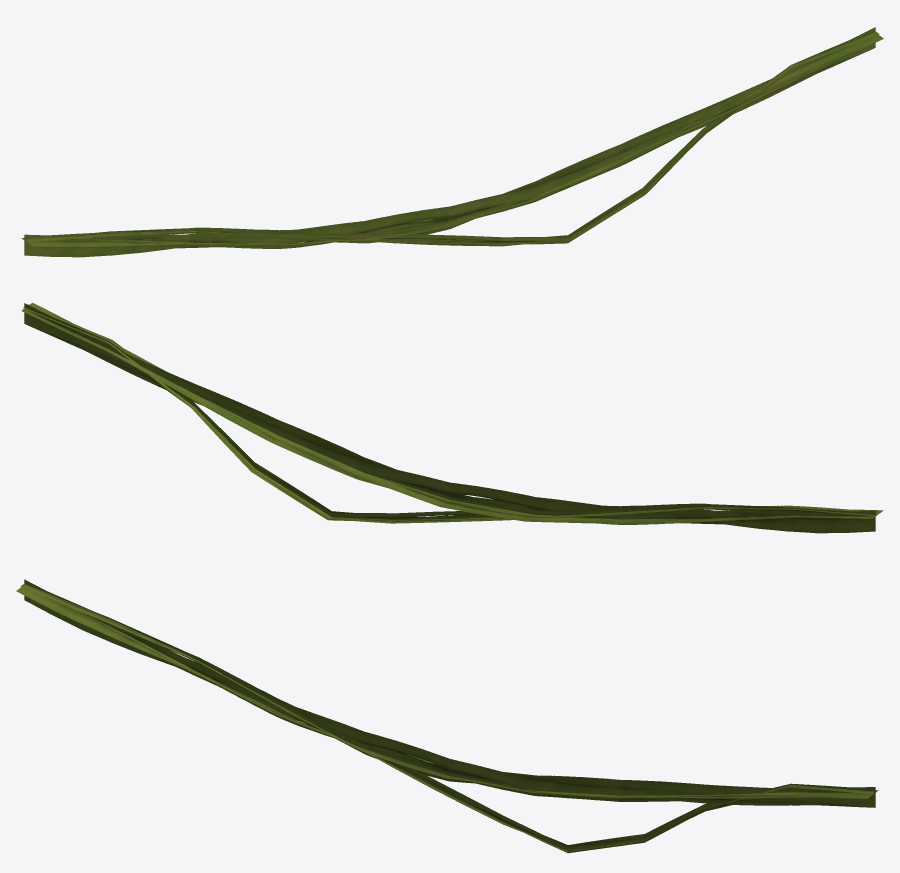
File: veg_Dire_vine.fbx
3 renders of one model, top to bottom at view 1: azimuth 30°, elevation 25°; view 2: azimuth 150°, elevation 25°; view 3: azimuth 330°, elevation 25°, orthographic.
Parts seen in each view (by area): view 1: veg_Dire_vine; view 2: veg_Dire_vine; view 3: veg_Dire_vine.
Boxes of the visible parts, x1,y1,x2,y2 form: veg_Dire_vine: (21, 27, 883, 257); veg_Dire_vine: (21, 302, 883, 533); veg_Dire_vine: (16, 579, 878, 853).
Size of the model in its own units: 1612 by 289 by 67.35.
